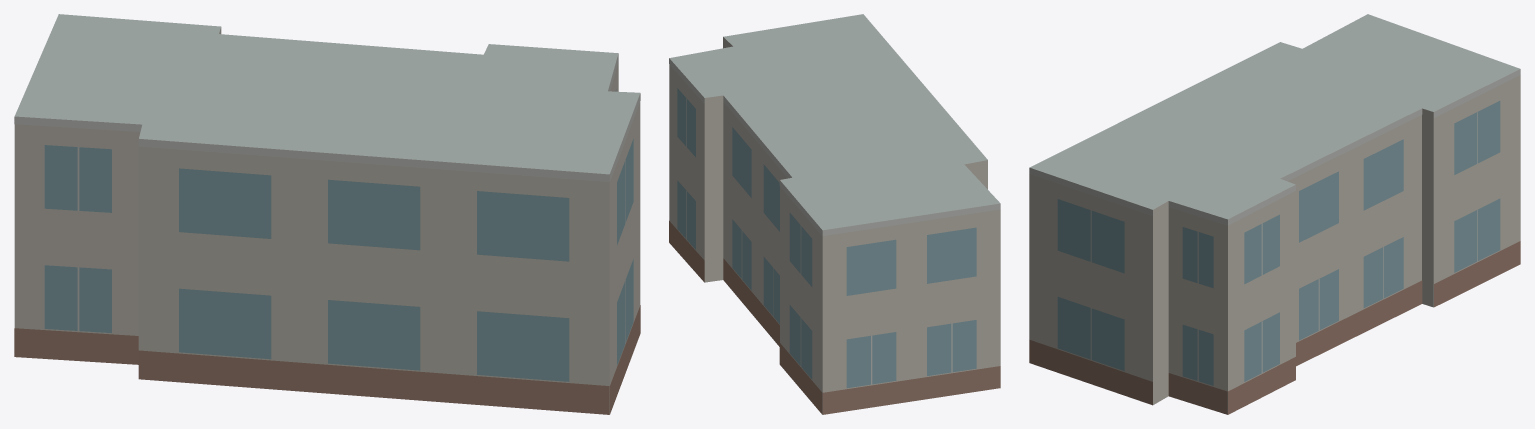
File: survey-upis-32690776.glb
3 views of the same model, side by side, from view 1: azimuth 30°, elevation 25°; view 2: azimuth 150°, elevation 25°; view 3: azimuth 270°, elevation 25° (orthographic). The views are drawn at different scales.
Visible parts, largest first — view 1: survey-upis-32690776.tmp; view 2: survey-upis-32690776.tmp; view 3: survey-upis-32690776.tmp.
Part boxes in pixels (box(x1,y1,x2,y2)): survey-upis-32690776.tmp: box(14, 14, 640, 414); survey-upis-32690776.tmp: box(669, 14, 1000, 414); survey-upis-32690776.tmp: box(1029, 14, 1520, 414).
Bounding box in the file's own units: 17.14 × 7.6 × 17.31.
